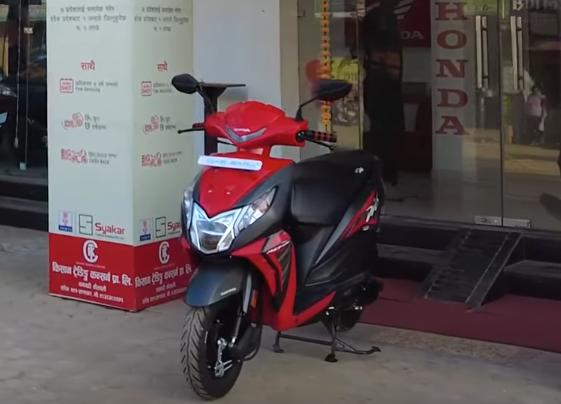scooter: (165, 71, 388, 401)
